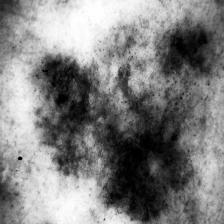Benign Marking or Mole: (42, 23, 210, 219)
